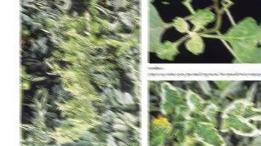Tomato leaf yellow virus: (224, 12, 261, 56), (223, 94, 261, 135), (159, 80, 187, 115), (196, 119, 230, 146), (183, 28, 210, 53), (184, 88, 208, 115)
